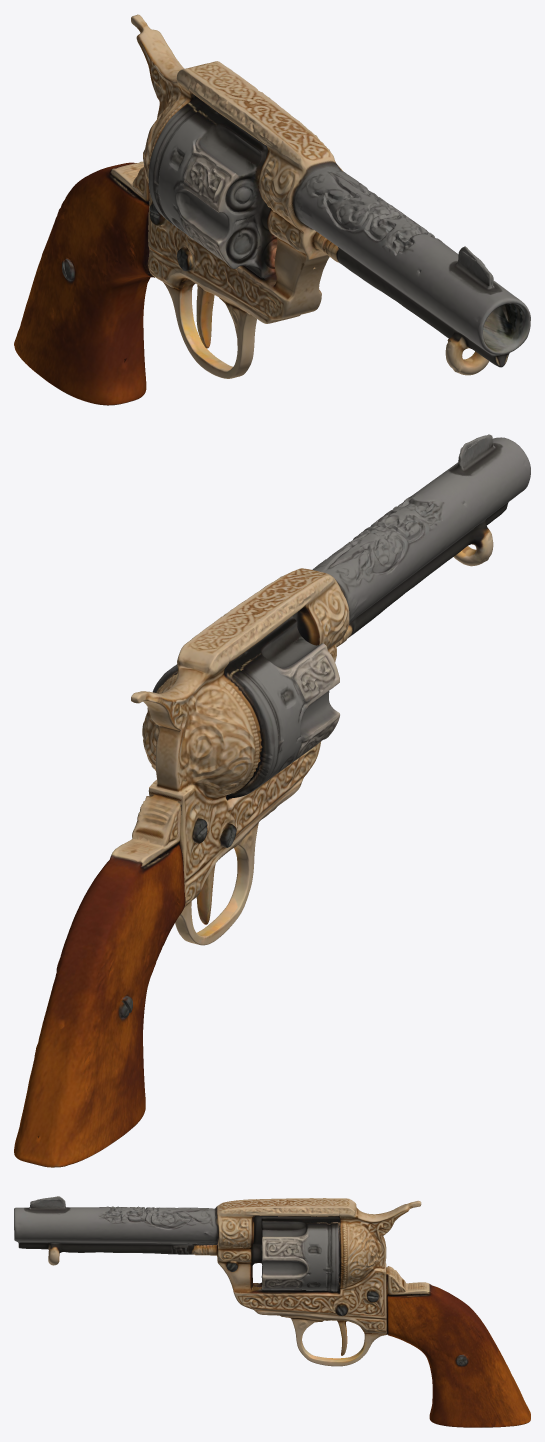
File: revolver_dorado.fbx
The picture shows the model from 3 angles, top to bottom: view 1: azimuth 30°, elevation 25°; view 2: azimuth 150°, elevation 25°; view 3: azimuth 270°, elevation 25°; orthographic projection. The views are drawn at different scales.
Parts seen in each view (by area): view 1: tripo_node_f2414707; view 2: tripo_node_f2414707; view 3: tripo_node_f2414707.
Part boxes in pixels (x1,y1,x2,y2): tripo_node_f2414707: (14,14,530,405); tripo_node_f2414707: (14,434,530,1167); tripo_node_f2414707: (14,1196,530,1427).
Size of the model in its own units: 0.1537 by 0.4727 by 0.9999.
Materials: 1 (1 with a texture image).
